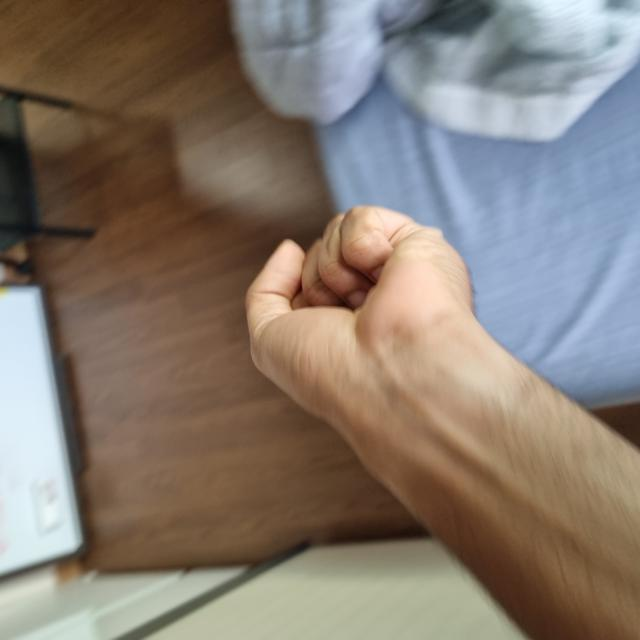Rock: (135, 246, 433, 541)
